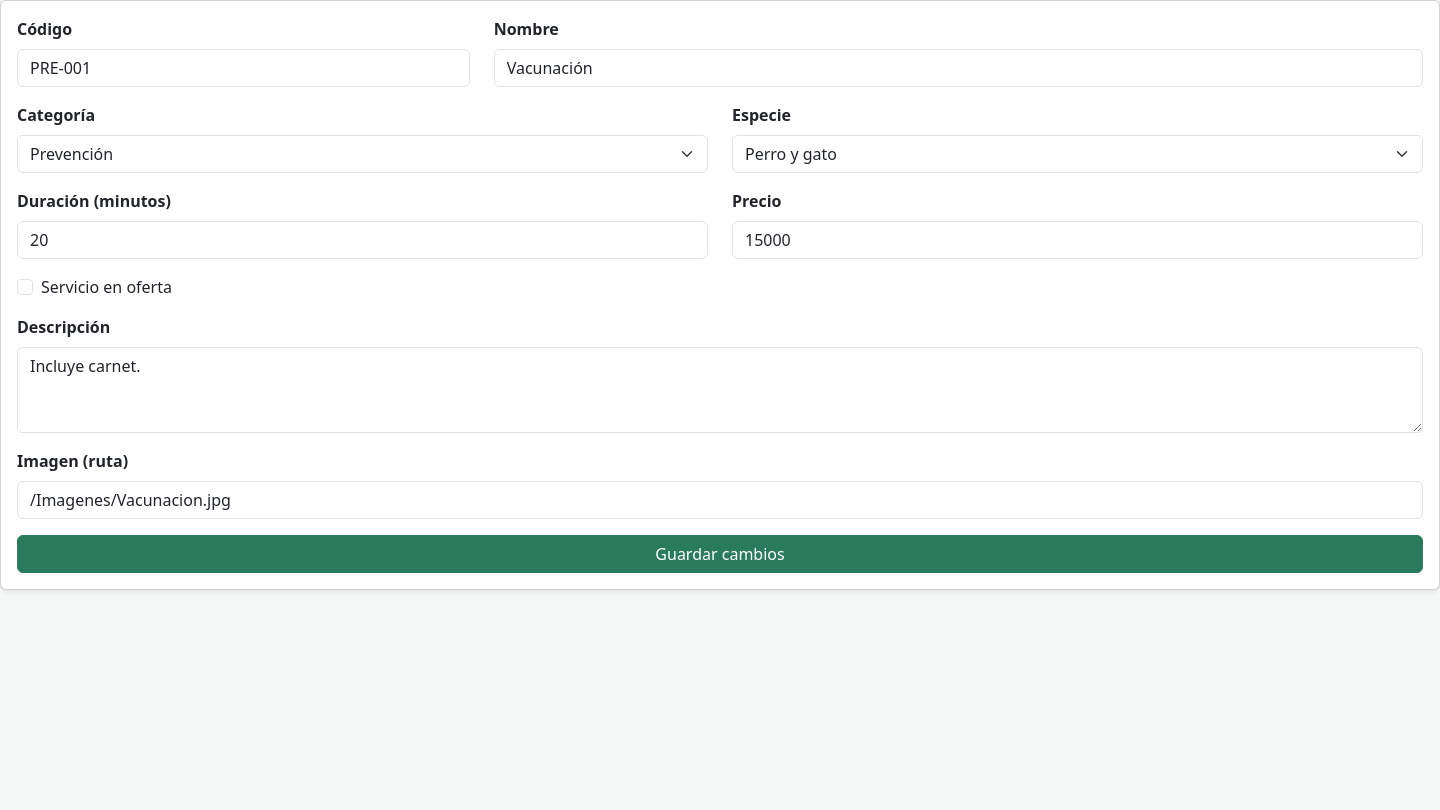
Test case: FormularioServicio › rechaza una oferta mayor que el precio normal
This screenshot has width=1440, height=810.
Click the checkbox labelled "Servicio en oferta": (25, 287) [17,279,33,295]
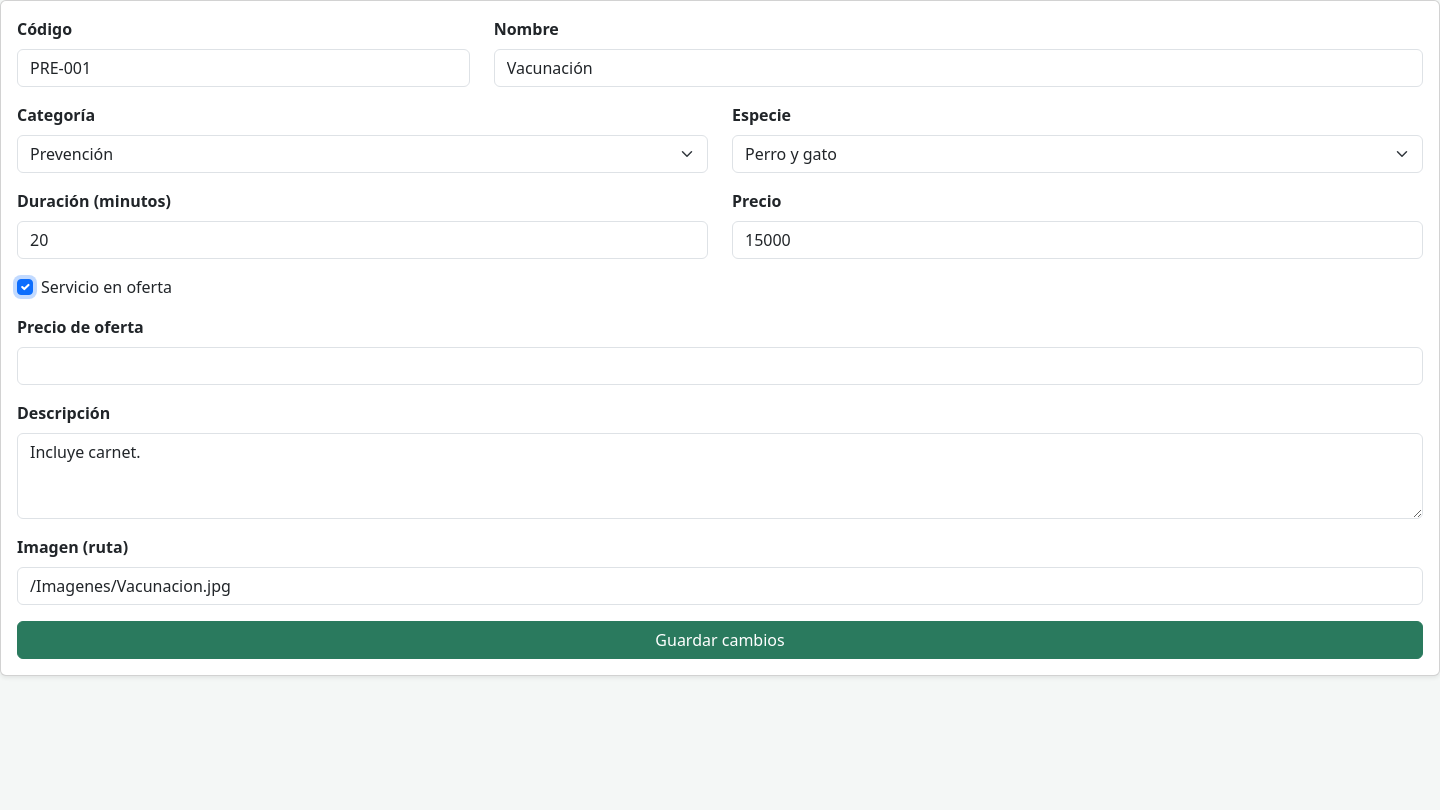
In the field labelled "Precio de oferta": (720, 366) [17,347,1423,385], type "20000"
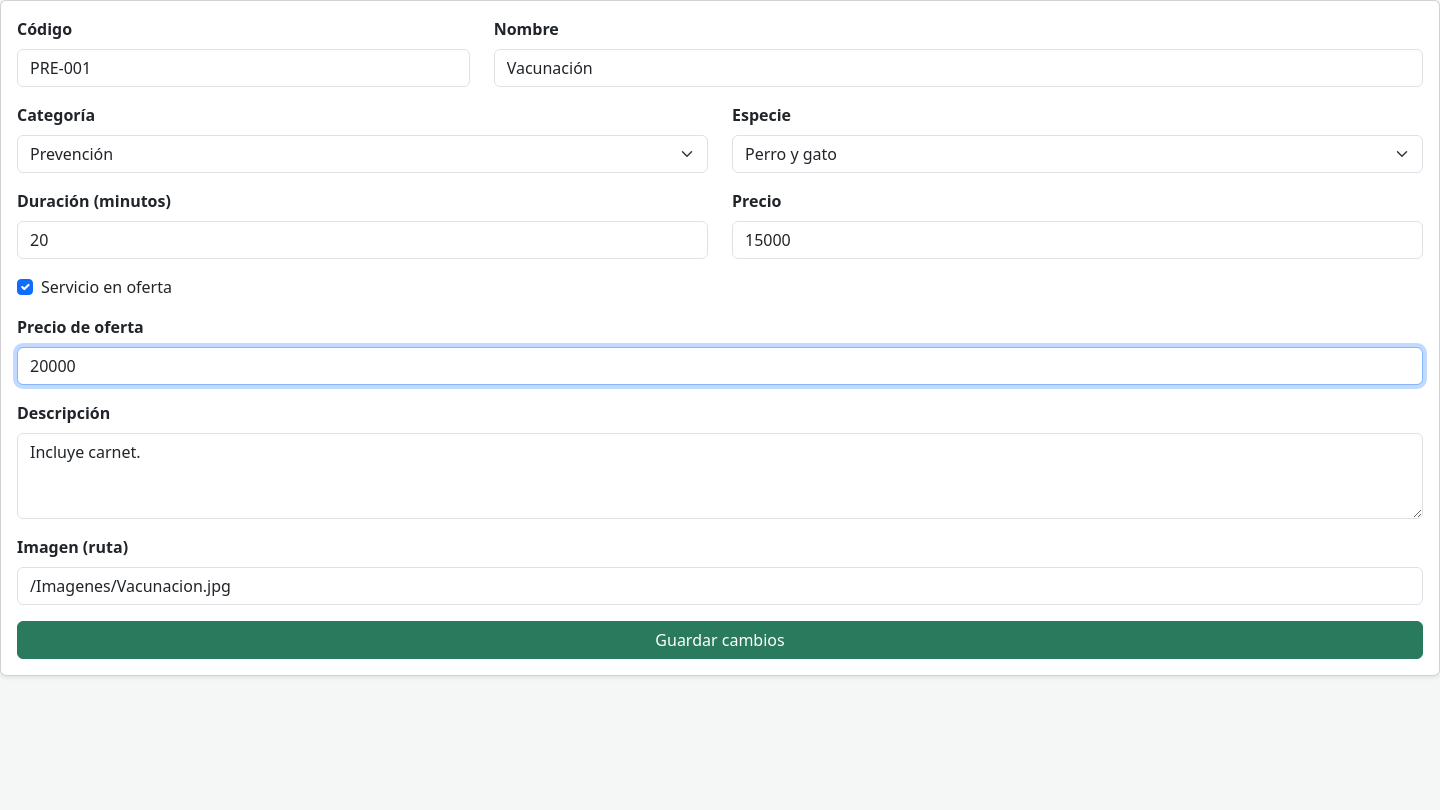
Click the button "Guardar cambios": (720, 640) [17,621,1423,659]
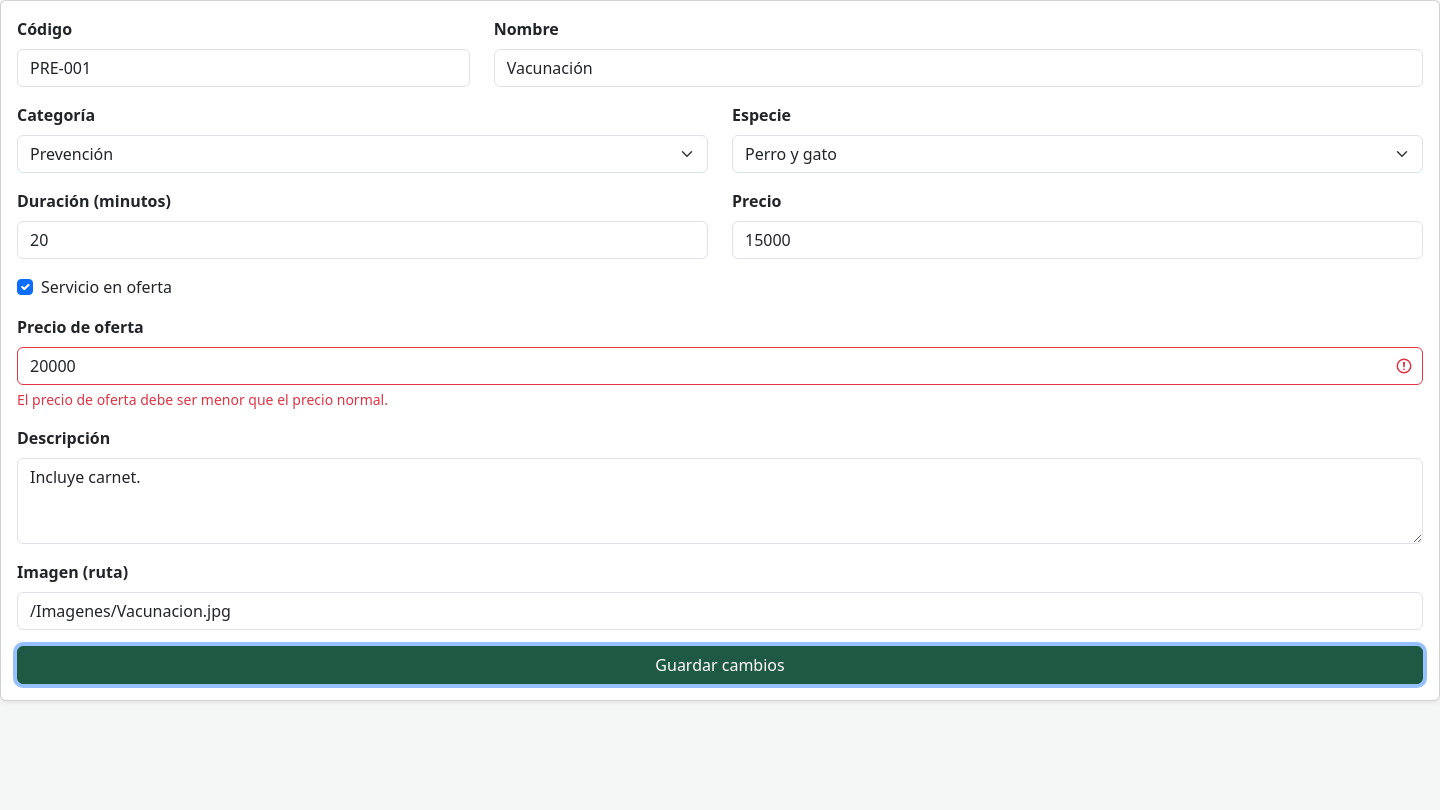
Expected: the message shows "menor que el precio normal", [17,390,388,409]
